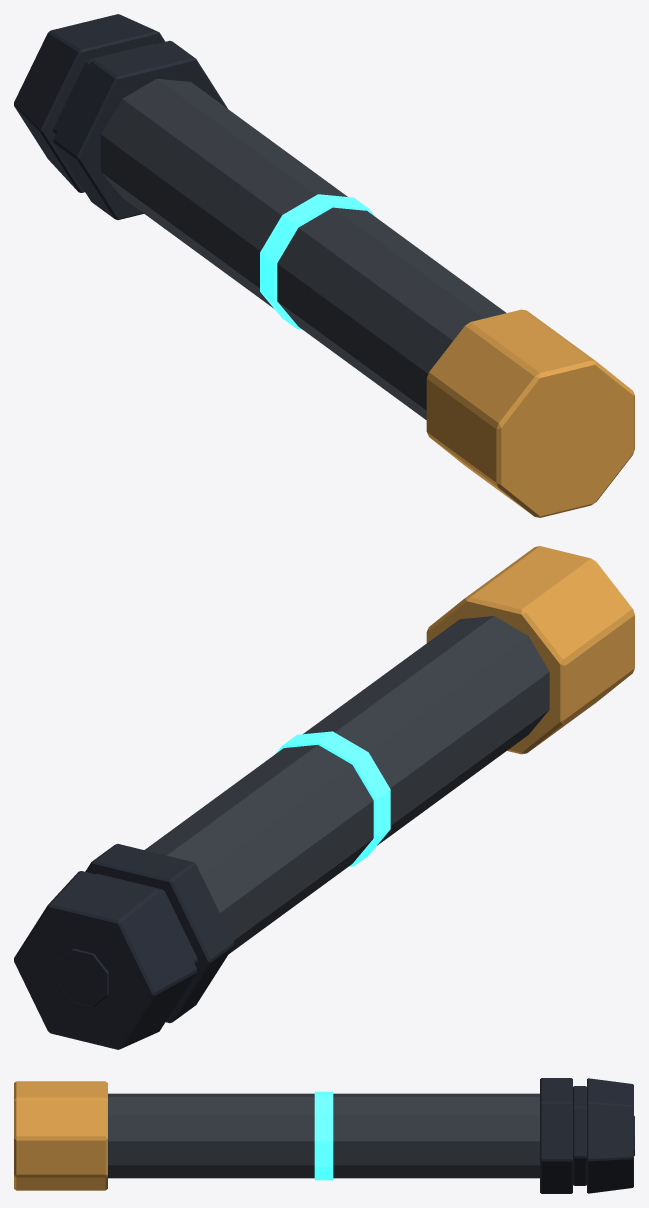
Rendered from long.glb.
3 views of the same model, one above another, from view 1: azimuth 30°, elevation 25°; view 2: azimuth 150°, elevation 25°; view 3: azimuth 270°, elevation 25° (orthographic). The views are drawn at different scales.
Visible parts, largest first — view 1: long_tube, long_coupler, long_tip, long_core; view 2: long_tube, long_tip, long_coupler, long_core; view 3: long_tube, long_tip, long_coupler, long_core.
Boxes of the visible parts, x1,y1,x2,y2 form: long_tube: (101, 78, 506, 419); long_coupler: (426, 309, 634, 517); long_tip: (14, 14, 227, 219); long_core: (260, 194, 375, 329); long_tube: (144, 616, 549, 953); long_tip: (14, 844, 233, 1049); long_coupler: (426, 546, 634, 754); long_core: (275, 731, 390, 866); long_tube: (108, 1093, 539, 1178); long_tip: (540, 1078, 634, 1193); long_coupler: (14, 1081, 107, 1190); long_core: (314, 1091, 333, 1180).
Size of the model in its own units: 0.0247 by 0.0218 by 0.1322.
